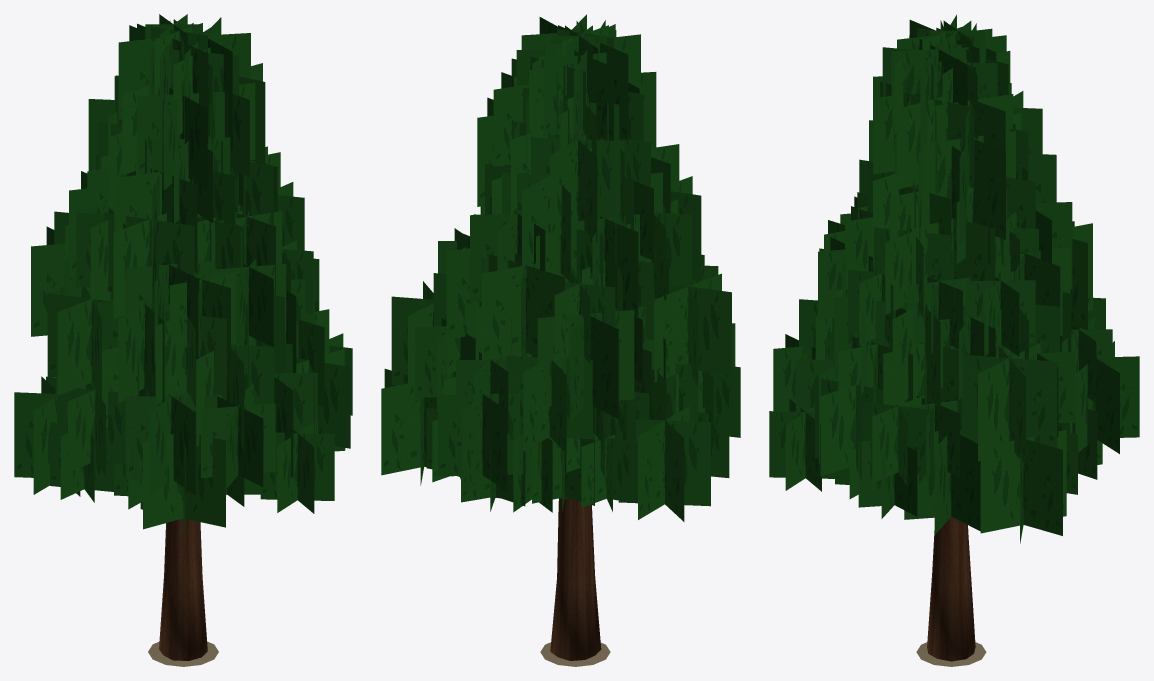
Rendered from pine_tree_b.glb.
3 renders of one model, left to right at view 1: azimuth 30°, elevation 25°; view 2: azimuth 150°, elevation 25°; view 3: azimuth 270°, elevation 25°, orthographic.
Parts seen in each view (by area): view 1: pine_tree_b; view 2: pine_tree_b; view 3: pine_tree_b.
Part boxes in pixels (x1,y1,x2,y2): pine_tree_b: [14, 14, 352, 666]; pine_tree_b: [381, 14, 740, 666]; pine_tree_b: [769, 14, 1139, 666].
Bounding box in the file's own units: 3.46 × 6.88 × 3.74.
3 materials, 2 textured.
